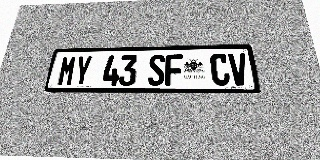3: (119, 55, 137, 86)
4: (102, 55, 121, 86)
C: (210, 53, 230, 85)
F: (165, 54, 183, 86)
M: (56, 56, 77, 86)
S: (148, 54, 165, 86)
V: (228, 53, 250, 85)
Y: (73, 55, 93, 86)
